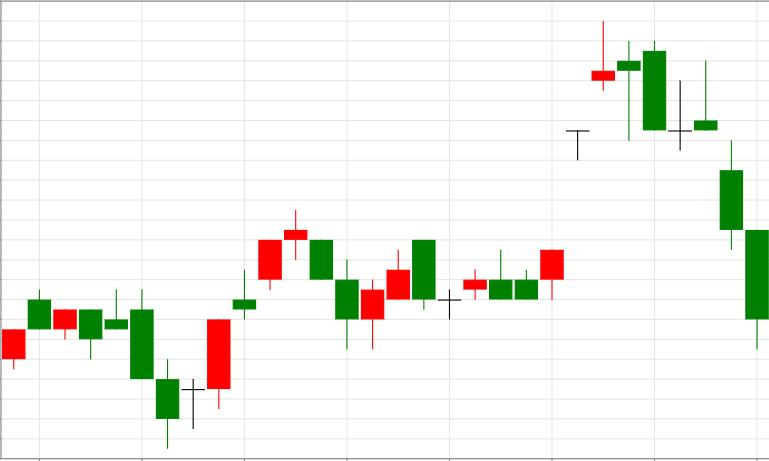evening_star_fall: (181, 209, 334, 429)
